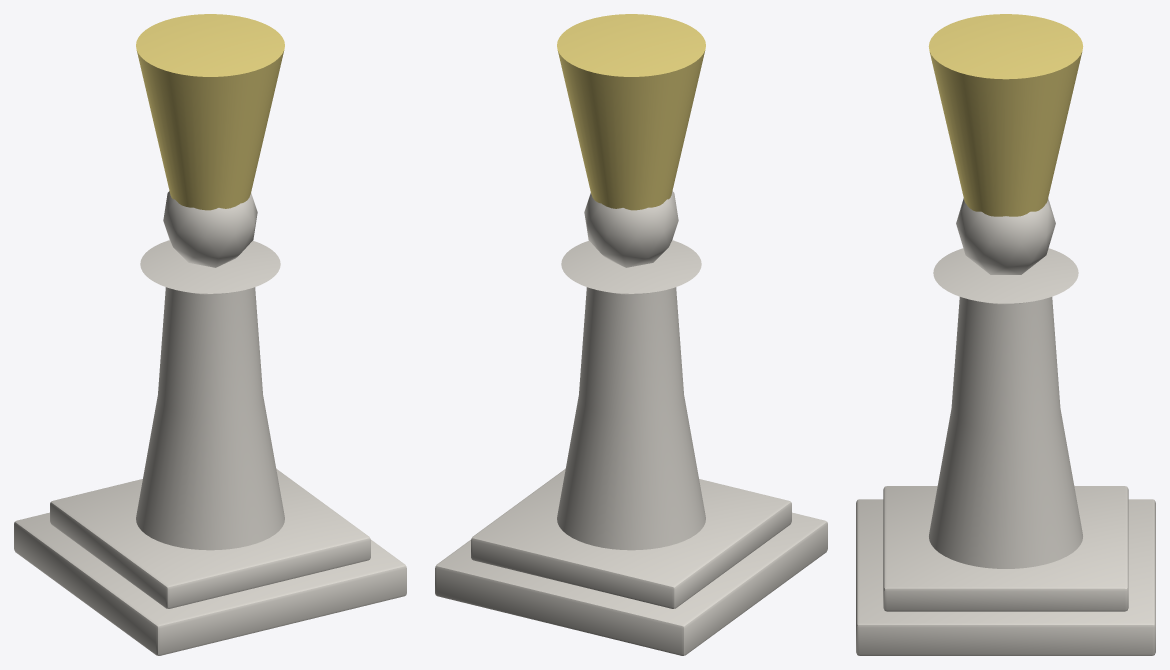
Rendered from Giza_Dama.fbx.
3 views of the same model, side by side, from view 1: azimuth 30°, elevation 25°; view 2: azimuth 150°, elevation 25°; view 3: azimuth 270°, elevation 25° (orthographic). The views are drawn at different scales.
Parts seen in each view (by area): view 1: Giza_Dama; view 2: Giza_Dama; view 3: Giza_Dama.
Part boxes in pixels (<box>): Giza_Dama: <box>14,14,406,655</box>; Giza_Dama: <box>435,14,827,655</box>; Giza_Dama: <box>856,14,1155,655</box>.
Size of the model in its own units: 0.66 by 1.34 by 0.66.
